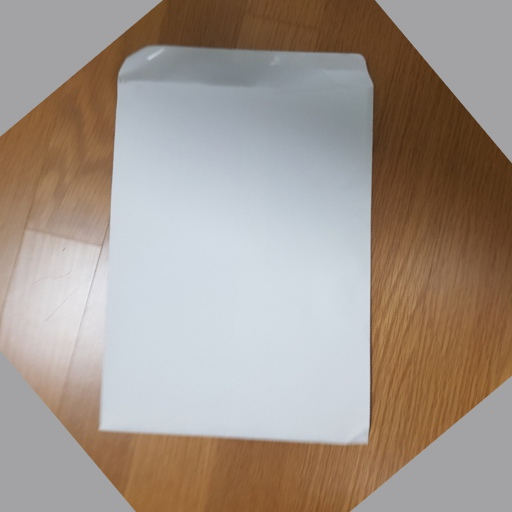Paper_2: (91, 44, 393, 462)
